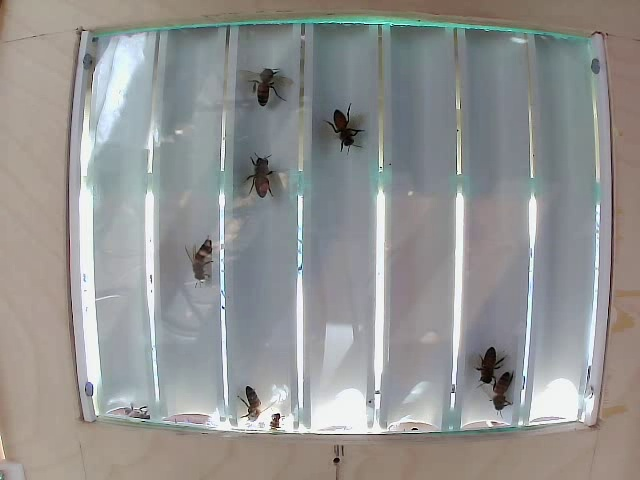bee: (236, 156, 288, 206), (251, 64, 292, 115), (179, 240, 212, 295), (333, 106, 370, 145)
